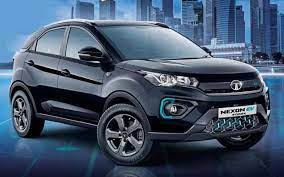Tata Nexon: (7, 17, 273, 165)
